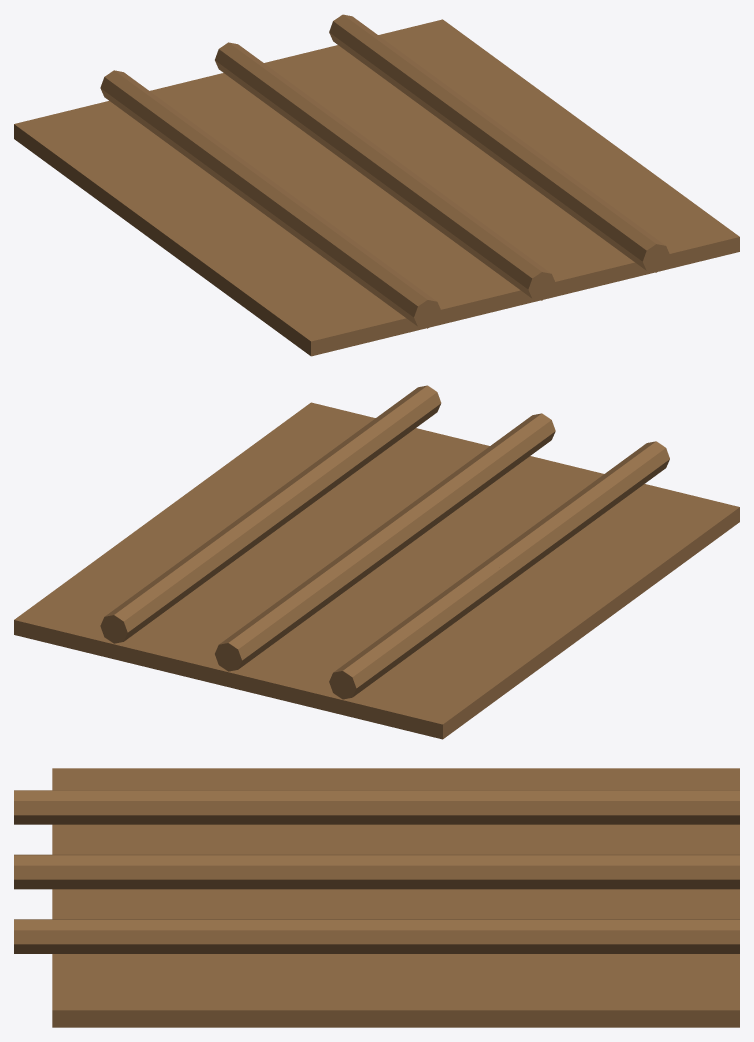
The model's file is norway-timber-yard_lod0.glb.
3 renders of one model, top to bottom at view 1: azimuth 30°, elevation 25°; view 2: azimuth 150°, elevation 25°; view 3: azimuth 270°, elevation 25°, orthographic. The views are drawn at different scales.
Visible parts, largest first — view 1: RF_TimberYard_Deck, RF_TimberYard_Log, RF_TimberYard_Log.001, RF_TimberYard_Log.002, RF_TimberYard_Log.007, RF_TimberYard_Log.008, RF_TimberYard_Log.006, RF_TimberYard_Log.005, RF_TimberYard_Log.009, RF_TimberYard_Log.010, RF_TimberYard_Log.011, RF_TimberYard_Log.003 (+1 smaller); view 2: RF_TimberYard_Deck, RF_TimberYard_Log.002, RF_TimberYard_Log.001, RF_TimberYard_Log, RF_TimberYard_Log.007, RF_TimberYard_Log.009, RF_TimberYard_Log.003, RF_TimberYard_Log.008, RF_TimberYard_Log.010, RF_TimberYard_Log.006, RF_TimberYard_Log.011, RF_TimberYard_Log.005 (+1 smaller); view 3: RF_TimberYard_Deck, RF_TimberYard_Log.002, RF_TimberYard_Log, RF_TimberYard_Log.001, RF_TimberYard_Log.009, RF_TimberYard_Log.006, RF_TimberYard_Log.003, RF_TimberYard_Log.010, RF_TimberYard_Log.005, RF_TimberYard_Log.011, RF_TimberYard_Log.008, RF_TimberYard_Log.007 (+1 smaller).
Part boxes in pixels (x1=…): RF_TimberYard_Deck: x1=14, y1=19, x2=739, y2=356; RF_TimberYard_Log: x1=249, y1=179, x2=441, y2=328; RF_TimberYard_Log.001: x1=363, y1=151, x2=555, y2=300; RF_TimberYard_Log.002: x1=477, y1=123, x2=669, y2=272; RF_TimberYard_Log.007: x1=264, y1=78, x2=433, y2=225; RF_TimberYard_Log.008: x1=378, y1=51, x2=558, y2=197; RF_TimberYard_Log.006: x1=150, y1=106, x2=326, y2=252; RF_TimberYard_Log.005: x1=428, y1=87, x2=615, y2=234; RF_TimberYard_Log.009: x1=100, y1=70, x2=255, y2=175; RF_TimberYard_Log.010: x1=215, y1=42, x2=368, y2=146; RF_TimberYard_Log.011: x1=329, y1=14, x2=455, y2=125; RF_TimberYard_Log.003: x1=199, y1=143, x2=377, y2=278; RF_TimberYard_Deck: x1=14, y1=402, x2=739, y2=739; RF_TimberYard_Log.002: x1=253, y1=385, x2=441, y2=531; RF_TimberYard_Log.001: x1=368, y1=413, x2=555, y2=551; RF_TimberYard_Log: x1=483, y1=441, x2=669, y2=586; RF_TimberYard_Log.007: x1=278, y1=486, x2=456, y2=632; RF_TimberYard_Log.009: x1=329, y1=564, x2=521, y2=699; RF_TimberYard_Log.003: x1=437, y1=477, x2=619, y2=614; RF_TimberYard_Log.008: x1=154, y1=467, x2=341, y2=605; RF_TimberYard_Log.010: x1=215, y1=522, x2=392, y2=671; RF_TimberYard_Log.006: x1=383, y1=515, x2=548, y2=660; RF_TimberYard_Log.011: x1=100, y1=561, x2=225, y2=643; RF_TimberYard_Log.005: x1=204, y1=422, x2=390, y2=568; RF_TimberYard_Deck: x1=52, y1=768, x2=739, y2=1027; RF_TimberYard_Log.002: x1=14, y1=919, x2=395, y2=953; RF_TimberYard_Log: x1=14, y1=790, x2=395, y2=824; RF_TimberYard_Log.001: x1=14, y1=854, x2=395, y2=889; RF_TimberYard_Log.009: x1=358, y1=790, x2=739, y2=824; RF_TimberYard_Log.006: x1=243, y1=790, x2=625, y2=824; RF_TimberYard_Log.003: x1=128, y1=790, x2=510, y2=824; RF_TimberYard_Log.010: x1=358, y1=854, x2=739, y2=889; RF_TimberYard_Log.005: x1=128, y1=919, x2=510, y2=953; RF_TimberYard_Log.011: x1=358, y1=919, x2=739, y2=953; RF_TimberYard_Log.008: x1=243, y1=919, x2=625, y2=953; RF_TimberYard_Log.007: x1=243, y1=854, x2=625, y2=889.
Size of the model in its own units: 15 by 1.48 by 19.
